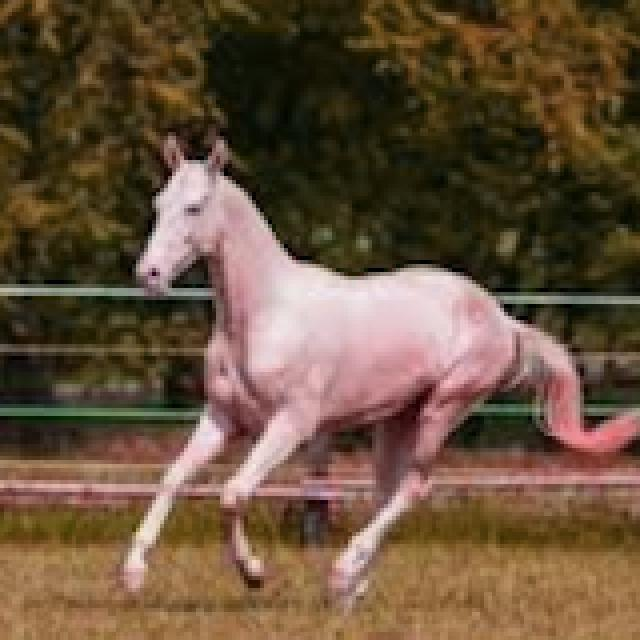Horse: (108, 128, 636, 616)
